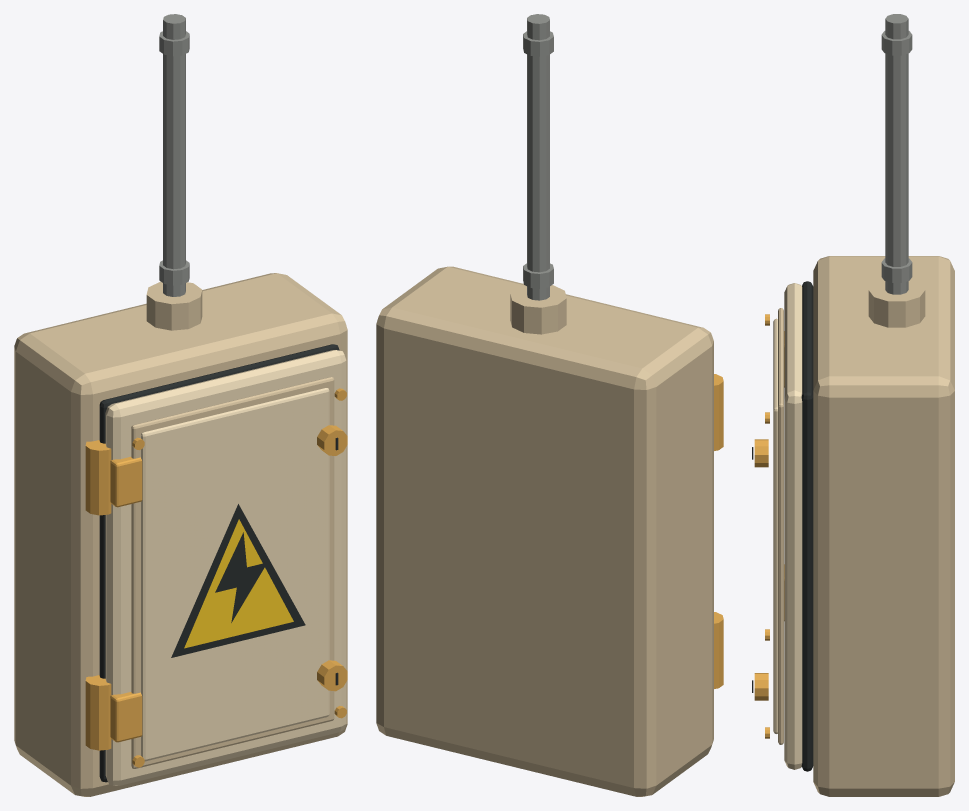
File: camera-box.glb
3 views of the same model, side by side, from view 1: azimuth 30°, elevation 25°; view 2: azimuth 150°, elevation 25°; view 3: azimuth 270°, elevation 25° (orthographic).
Visible parts, largest first — view 1: CameraBox_Ivory lid, CameraBox_Ivory enamel, CameraBox_Brass fittings, CameraBox_Seal and warning, CameraBox_Metal conduit, CameraBox_Warning yellow; view 2: CameraBox_Ivory enamel, CameraBox_Metal conduit, CameraBox_Brass fittings; view 3: CameraBox_Ivory enamel, CameraBox_Ivory lid, CameraBox_Metal conduit, CameraBox_Seal and warning, CameraBox_Brass fittings.
Boxes of the visible parts, x1,y1,x2,y2 form: CameraBox_Ivory lid: (105,350,346,785); CameraBox_Ivory enamel: (14,273,347,796); CameraBox_Brass fittings: (85,388,347,767); CameraBox_Seal and warning: (99,344,339,782); CameraBox_Metal conduit: (159,14,189,296); CameraBox_Warning yellow: (184,519,293,648); CameraBox_Ivory enamel: (376,266,713,796); CameraBox_Metal conduit: (523,14,553,300); CameraBox_Brass fittings: (714,374,723,688); CameraBox_Ivory enamel: (778,256,954,796); CameraBox_Ivory lid: (773,283,802,769); CameraBox_Metal conduit: (881,14,912,294); CameraBox_Seal and warning: (752,281,813,771); CameraBox_Brass fittings: (754,314,784,738).
Bounding box in the file's own units: 0.49 × 1.23 × 0.315.
